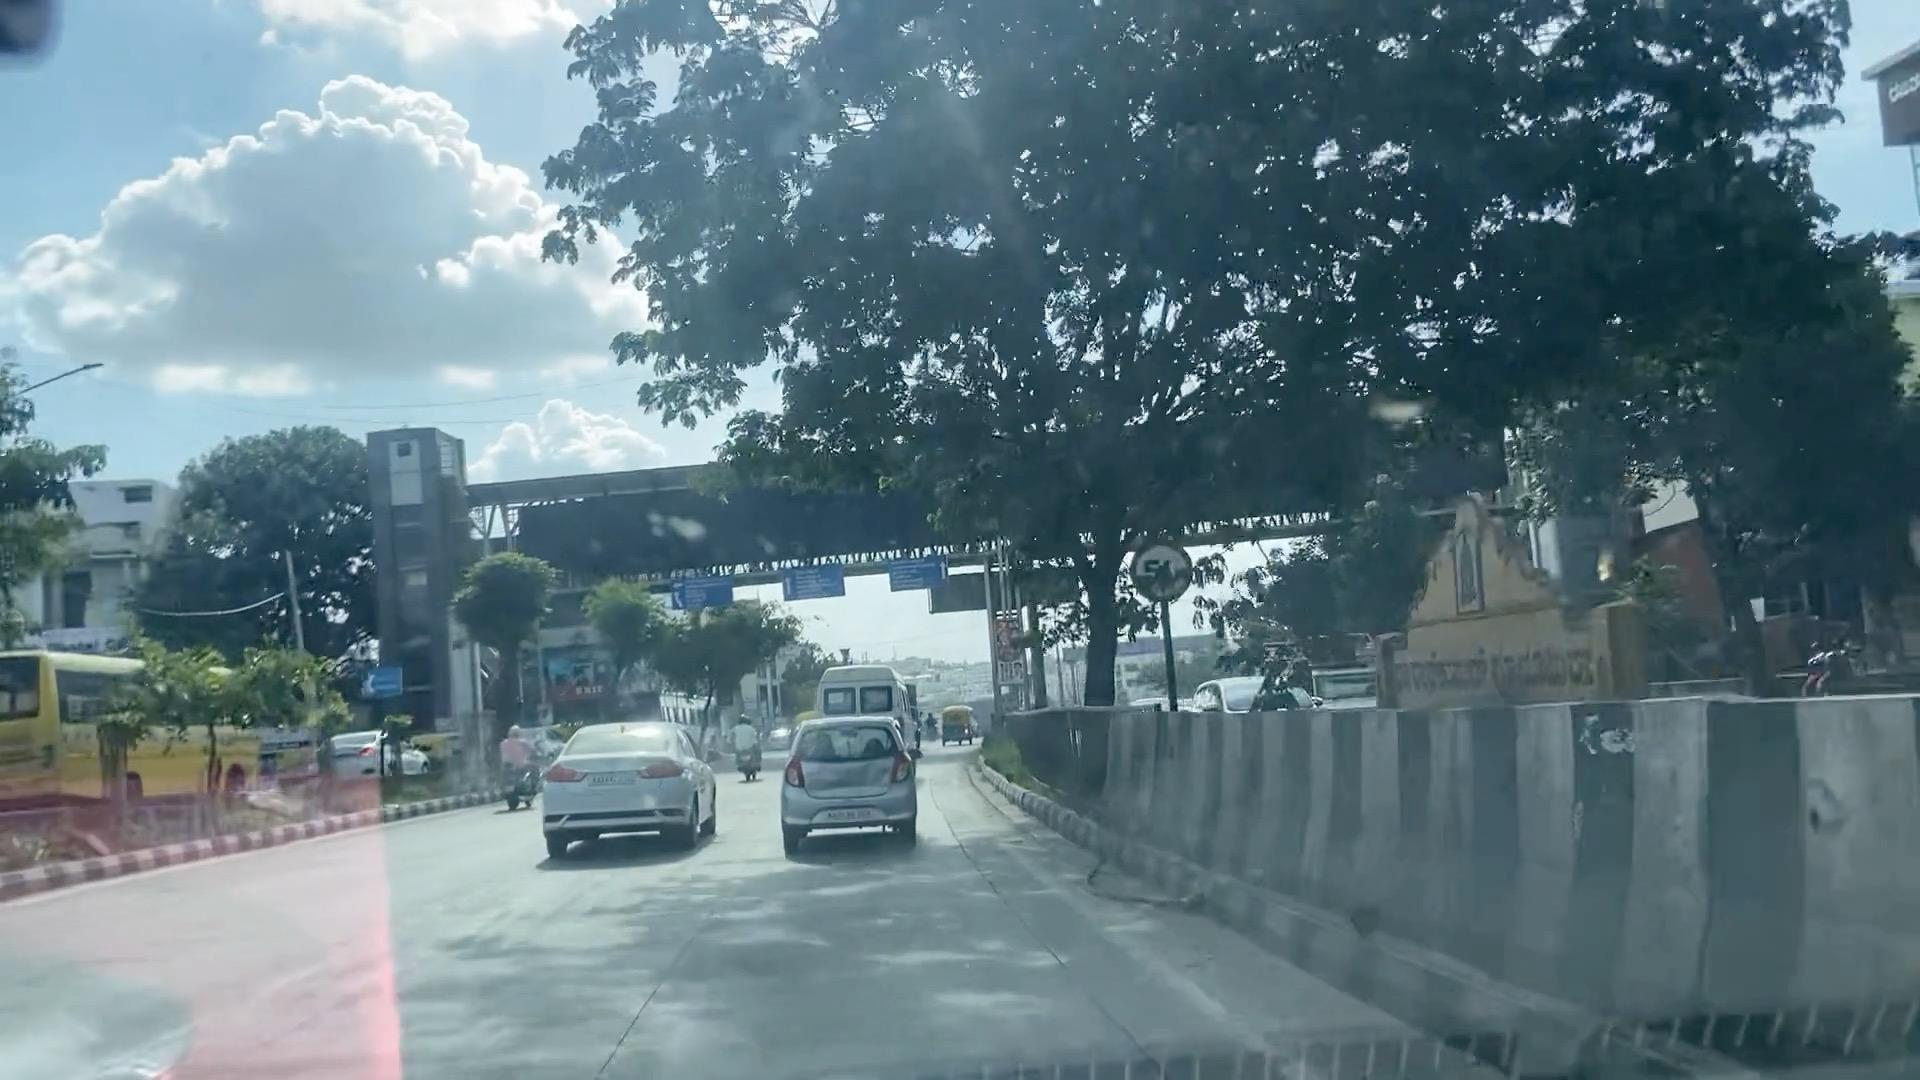LMV: (555, 725, 695, 829), (790, 720, 907, 840)
